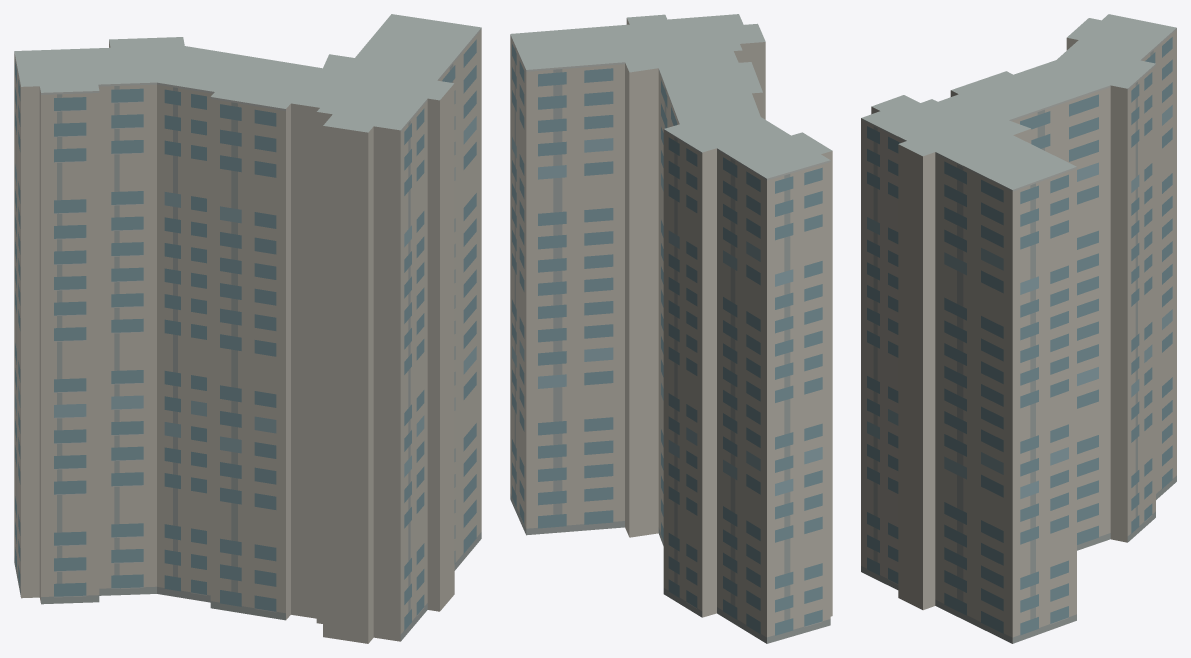
Rendered from residential-5f8261ec-5f90-4786-9391-2a417db3b553.glb.
The picture shows the model from 3 angles, left to right: view 1: azimuth 30°, elevation 25°; view 2: azimuth 150°, elevation 25°; view 3: azimuth 270°, elevation 25°; orthographic projection. The views are drawn at different scales.
Parts seen in each view (by area): view 1: residential-5f8261ec-5f90-4786-9391-2a417db3b553.tmp; view 2: residential-5f8261ec-5f90-4786-9391-2a417db3b553.tmp; view 3: residential-5f8261ec-5f90-4786-9391-2a417db3b553.tmp.
Part boxes in pixels (left/top/right/bottom): residential-5f8261ec-5f90-4786-9391-2a417db3b553.tmp: left=14, top=14, right=481, bottom=643; residential-5f8261ec-5f90-4786-9391-2a417db3b553.tmp: left=510, top=14, right=832, bottom=643; residential-5f8261ec-5f90-4786-9391-2a417db3b553.tmp: left=861, top=14, right=1176, bottom=643.
Size of the model in its own units: 51.57 by 62 by 39.11.
